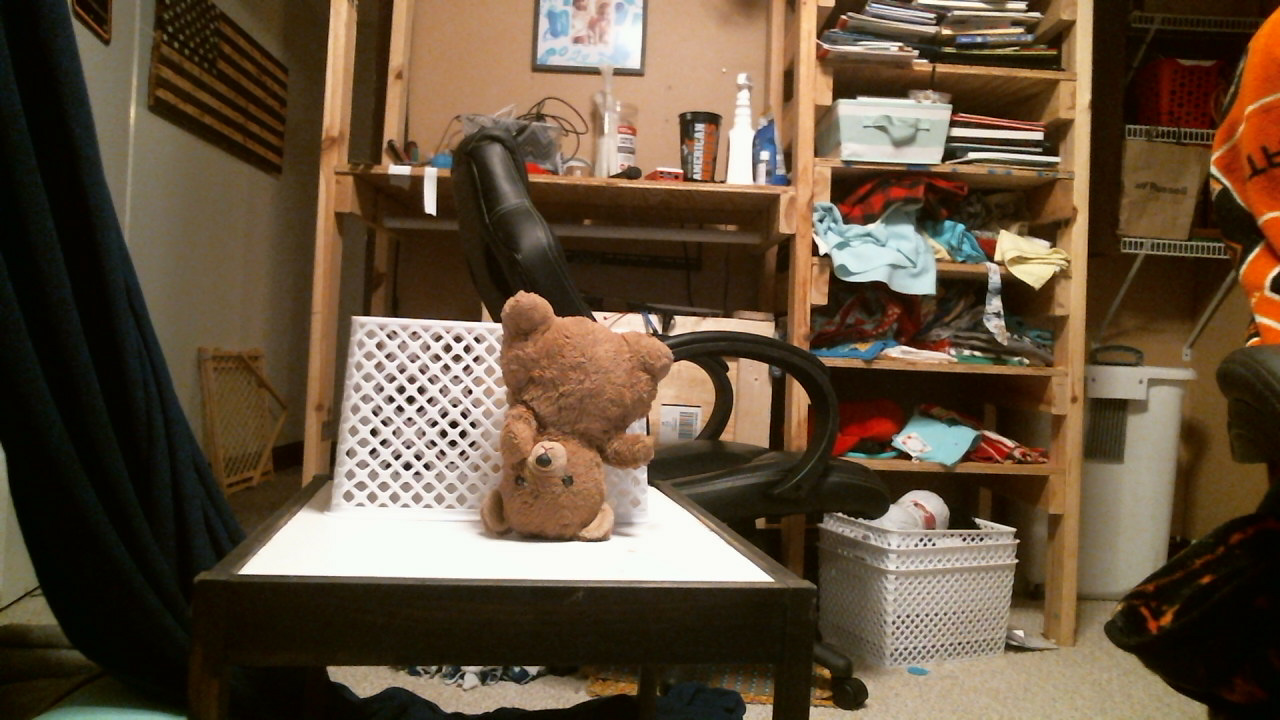Little_Mister_Bear: (509, 455, 598, 511)
